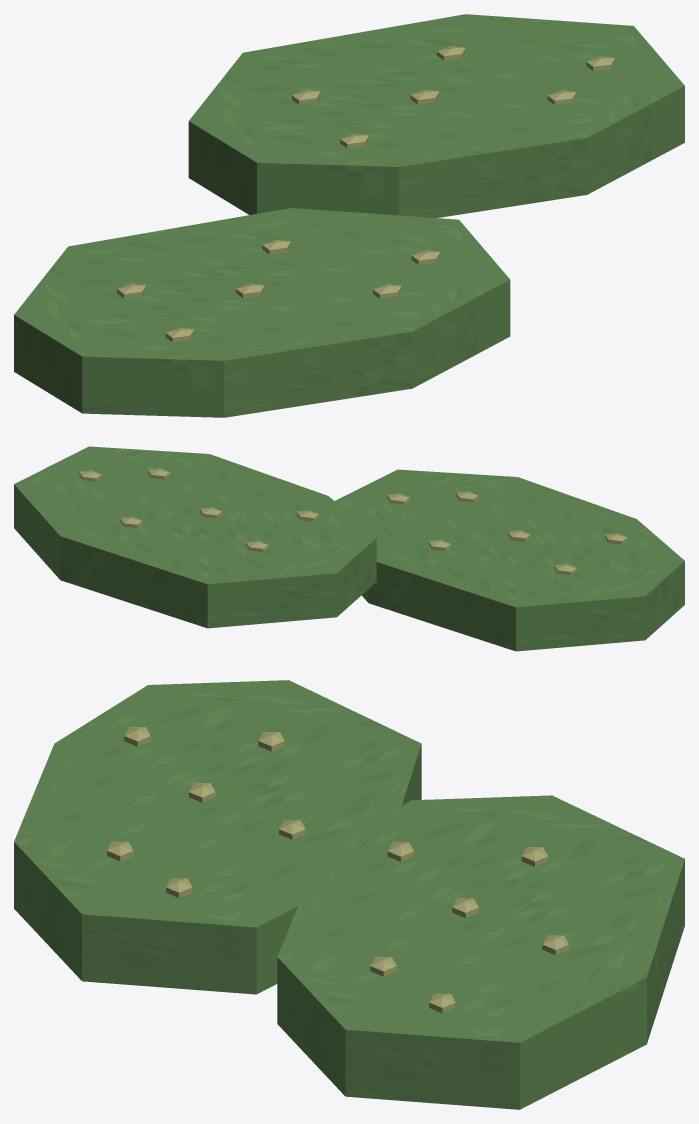
Rendered from cactus_pad.glb.
3 renders of one model, top to bottom at view 1: azimuth 30°, elevation 25°; view 2: azimuth 150°, elevation 25°; view 3: azimuth 270°, elevation 25°, orthographic. The views are drawn at different scales.
Visible parts, largest first — view 1: block_flat rounded cactus paddle (×2); view 2: block_flat rounded cactus paddle (×2); view 3: block_flat rounded cactus paddle (×2).
Boxes of the visible parts, x1,y1,x2,y2 form: block_flat rounded cactus paddle (×2): [14, 14, 684, 417]; block_flat rounded cactus paddle (×2): [14, 446, 684, 651]; block_flat rounded cactus paddle (×2): [14, 680, 684, 1109].
Size of the model in its own units: 0.145 by 0.0204 by 0.0998.
Materials: 1 (1 with a texture image).
